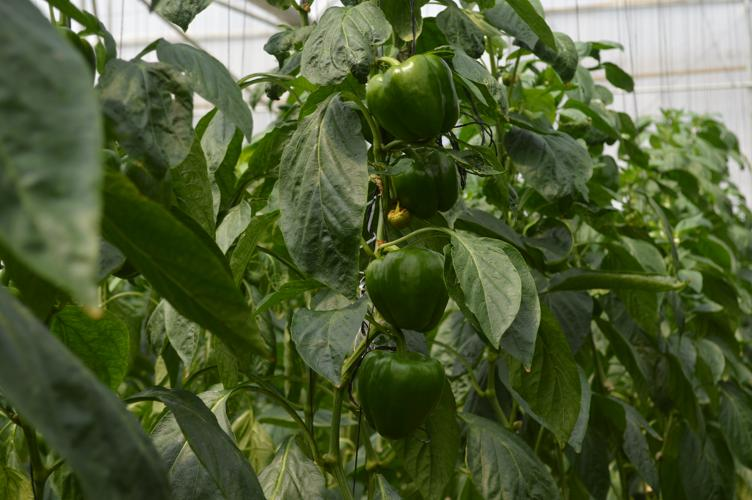BellPepper: (355, 53, 460, 142), (351, 352, 445, 445), (365, 245, 454, 332), (388, 152, 463, 216)
